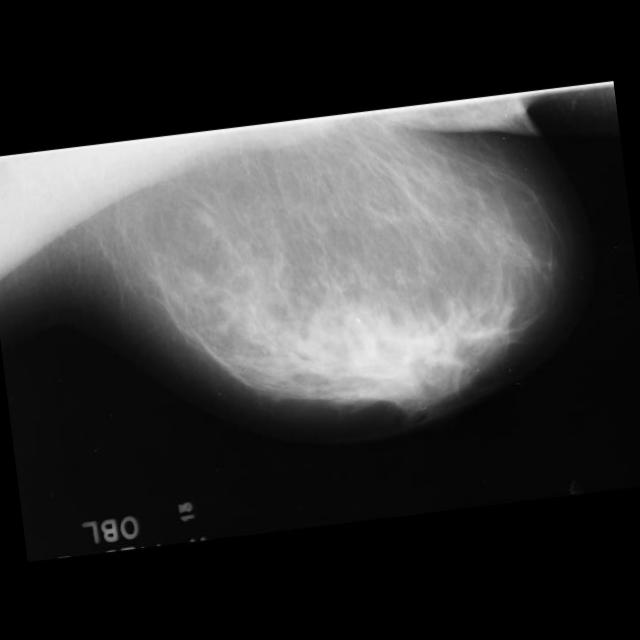CALC: (242, 328, 254, 338)
